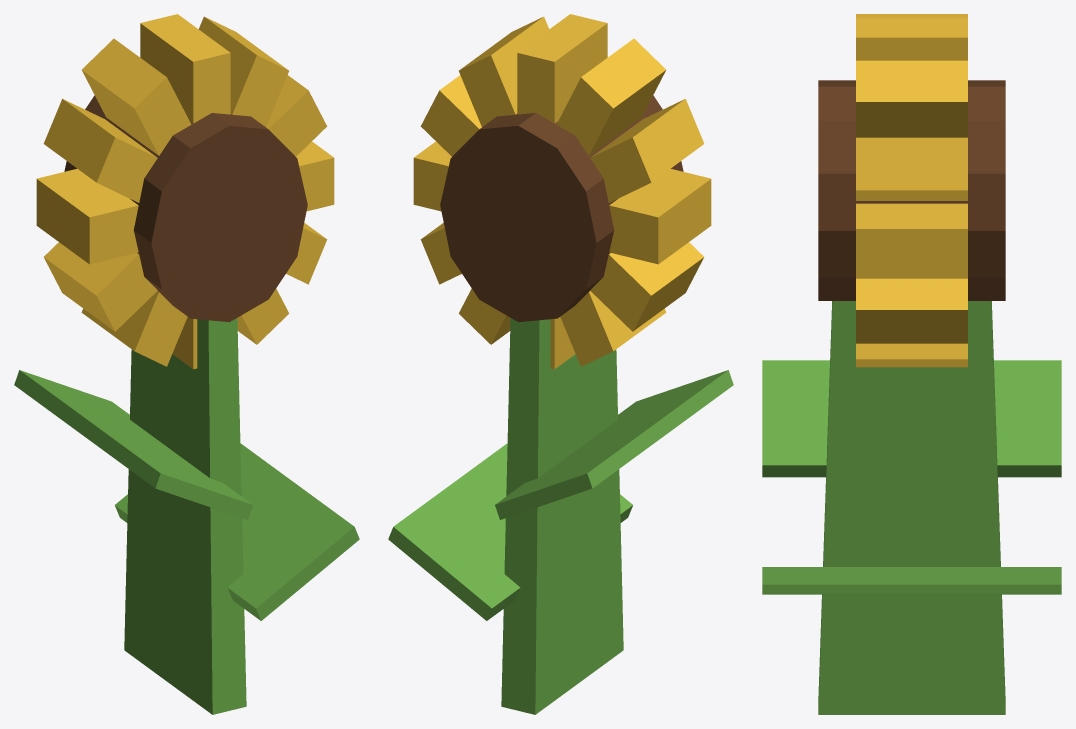
File: env_r10_giant_sunflower.glb
3 renders of one model, left to right at view 1: azimuth 30°, elevation 25°; view 2: azimuth 150°, elevation 25°; view 3: azimuth 270°, elevation 25°, orthographic. The views are drawn at different scales.
Parts seen in each view (by area): view 1: env_r10_giant_sunflower; view 2: env_r10_giant_sunflower; view 3: env_r10_giant_sunflower.
Part boxes in pixels (x1=…): env_r10_giant_sunflower: x1=14, y1=14, x2=359, y2=714; env_r10_giant_sunflower: x1=388, y1=14, x2=733, y2=714; env_r10_giant_sunflower: x1=762, y1=14, x2=1061, y2=714.
Size of the model in its own units: 3.2 by 8 by 3.2.
1 material, 1 textured.
